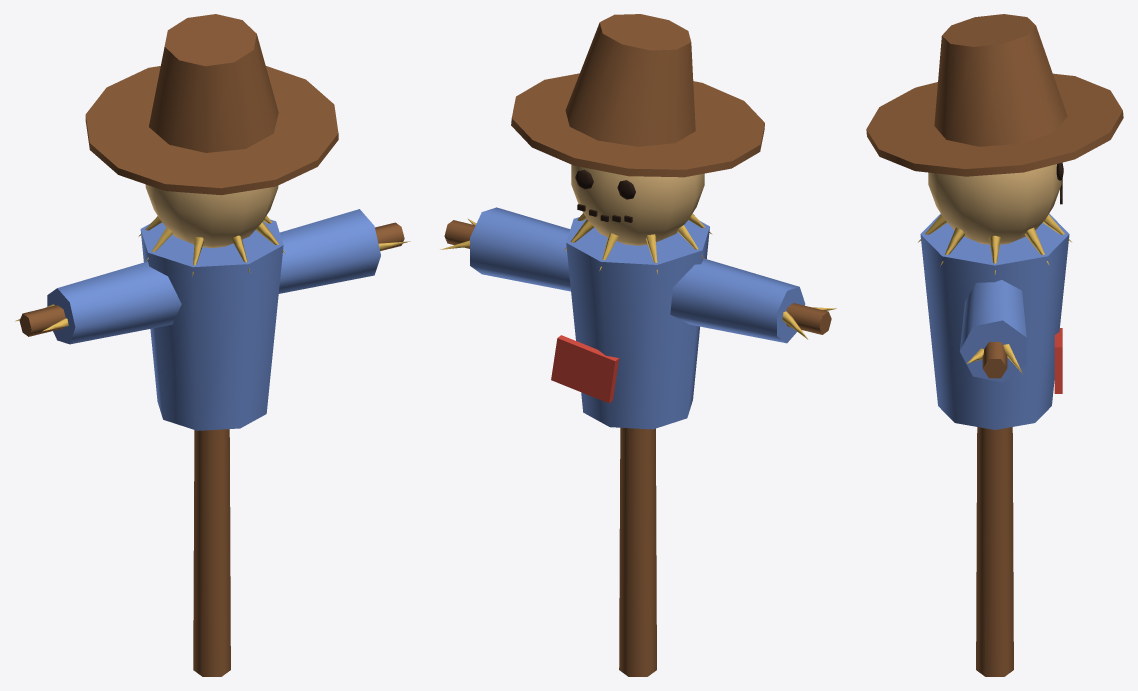
File: Scarecrow.glb
3 views of the same model, side by side, from view 1: azimuth 30°, elevation 25°; view 2: azimuth 150°, elevation 25°; view 3: azimuth 270°, elevation 25° (orthographic).
Visible parts, largest first — view 1: Body; view 2: Body; view 3: Body.
Boxes of the visible parts, x1,y1,x2,y2 form: Body: (15, 14, 410, 676); Body: (440, 14, 836, 676); Body: (866, 14, 1123, 676).
Bounding box in the file's own units: 3.21 × 5.24 × 1.9.
Materials: 1 (1 with a texture image).
